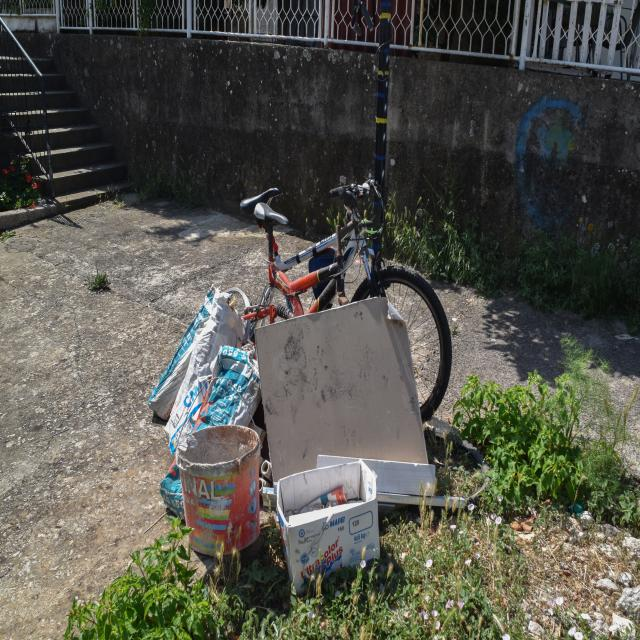entulho: (250, 290, 428, 484), (146, 281, 250, 444), (172, 399, 278, 546), (271, 470, 382, 572)
